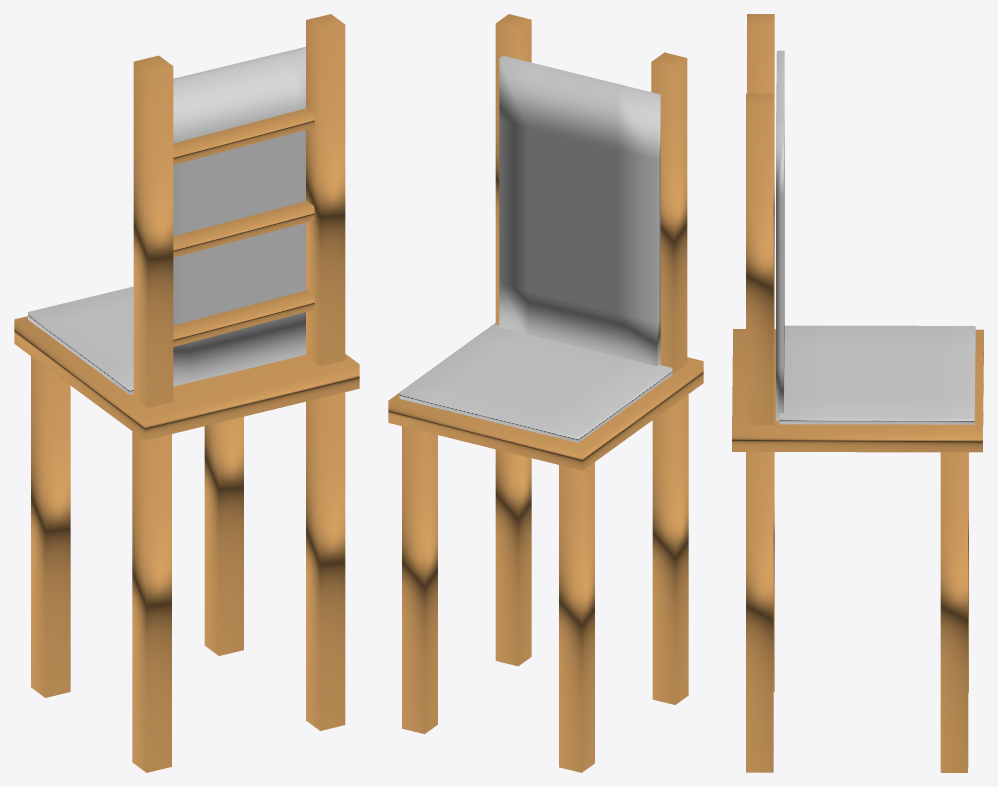
The model's file is chaise.fbx.
3 views of the same model, side by side, from view 1: azimuth 30°, elevation 25°; view 2: azimuth 150°, elevation 25°; view 3: azimuth 270°, elevation 25° (orthographic). The views are drawn at different scales.
Parts seen in each view (by area): view 1: chaise1; view 2: chaise1; view 3: chaise1.
Part boxes in pixels (x1,y1,x2,y2): chaise1: (14,14,359,772); chaise1: (388,14,703,772); chaise1: (732,14,983,772).
Size of the model in its own units: 1.8 by 5.6 by 1.92.
